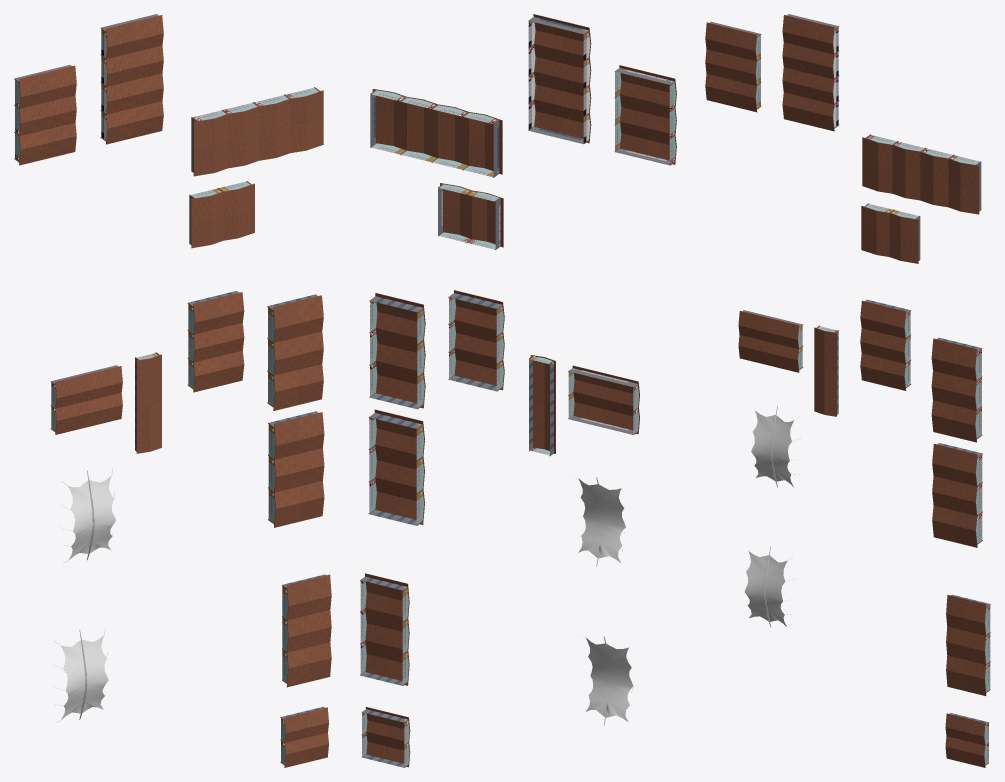
The model's file is sg_fmh_2.gltf.
3 views of the same model, side by side, from view 1: azimuth 30°, elevation 25°; view 2: azimuth 150°, elevation 25°; view 3: azimuth 330°, elevation 25° (orthographic). The views are drawn at different scales.
Size of the model in its own units: 392 by 945 by 19.01.
Materials: 13 (13 with a texture image).
